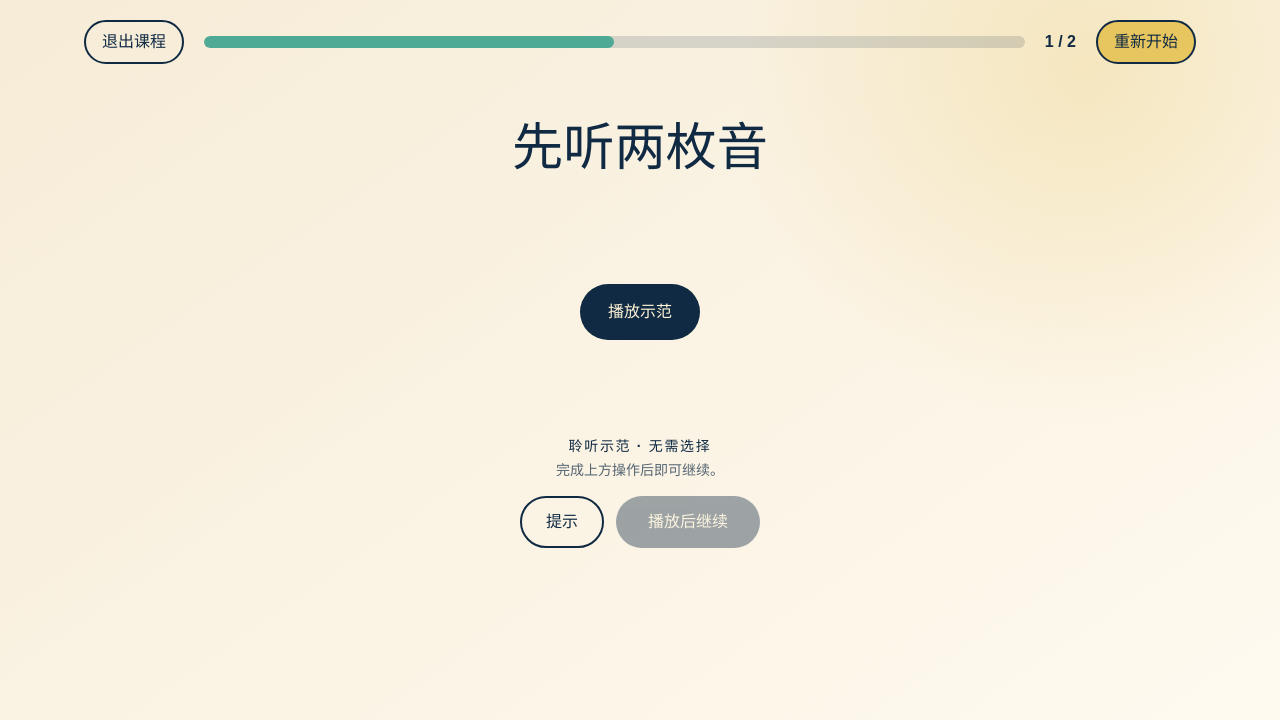
Test case: gives listening steps a clear continuation without presenting an empty answer state
Check: the text "聆听示范 · 无需选择" is shown, box [556,436,724,456]
Check: the button "播放后继续" is disabled, box [616,496,760,548]
Click the button "播放示范": coordinates (640, 312) [580,284,700,340]
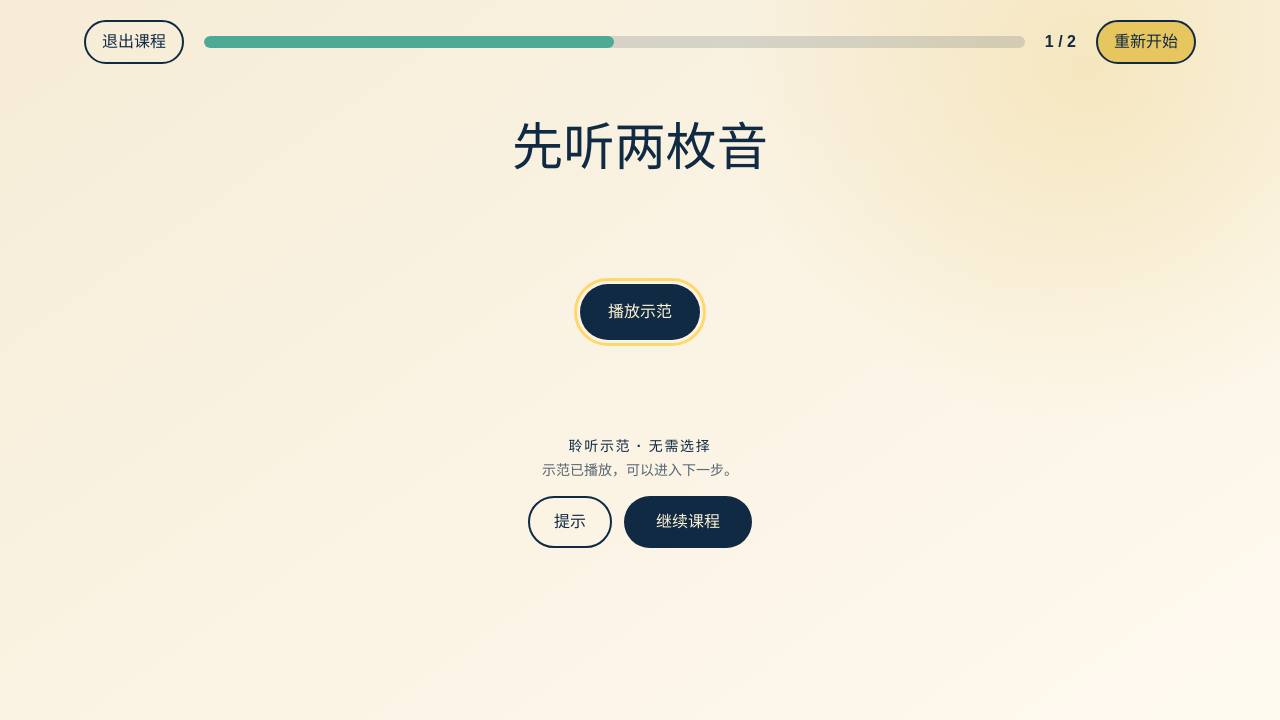
Check: the button "继续课程" is enabled
Click the button "继续课程": coordinates (688, 522) [624,496,752,548]
(page scrolled)
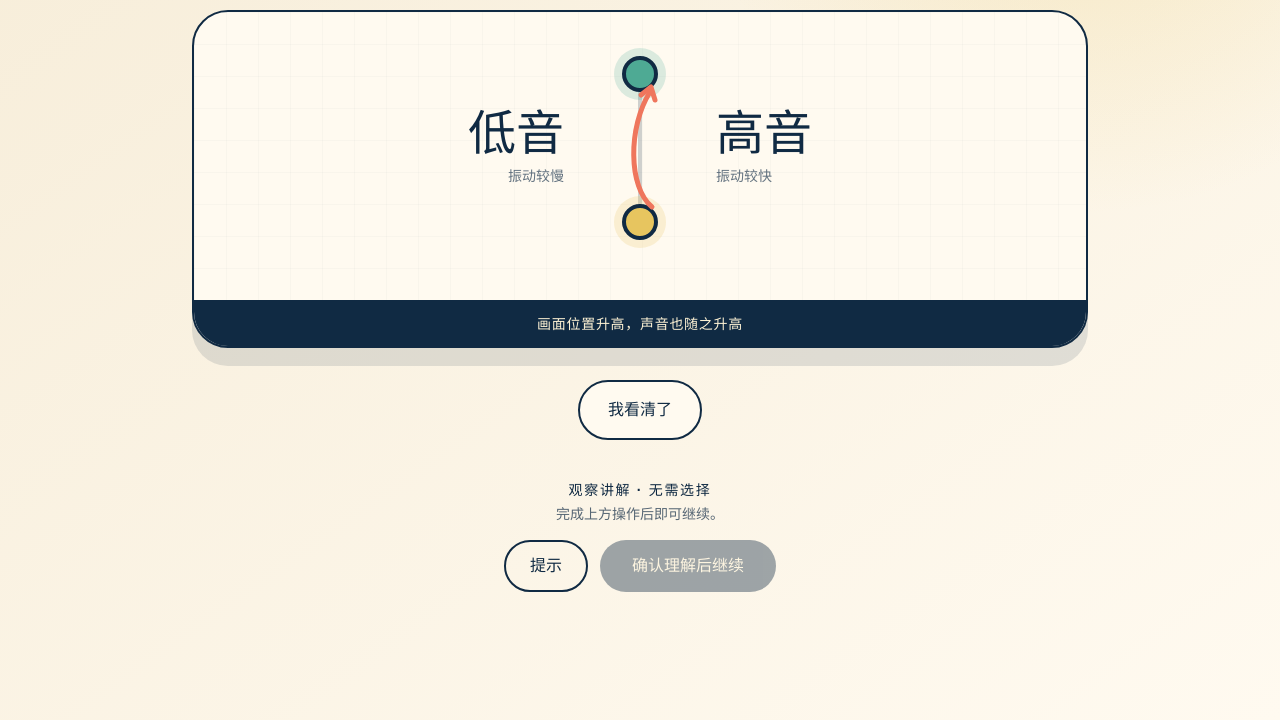
Check: the picture named "音高由低向高移动的竖直轨迹" is shown, box [192,10,1088,348]
Check: the text "观察讲解 · 无需选择" is shown, box [556,480,724,500]
Check: the button "确认理解后继续" is disabled, box [600,540,776,592]
